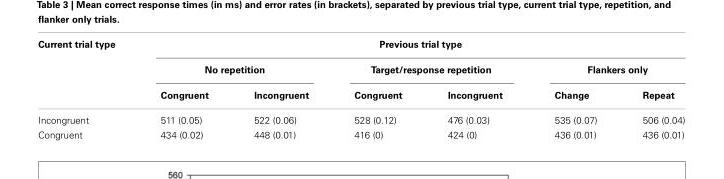table: (37, 37, 684, 139)
table column: (424, 37, 527, 139), (37, 37, 137, 139), (230, 37, 330, 139), (330, 37, 424, 139), (137, 37, 230, 139), (527, 37, 619, 139), (619, 37, 684, 139)
table column header: (37, 37, 684, 106)
table row: (37, 56, 684, 81), (37, 81, 684, 106), (37, 106, 684, 126), (37, 37, 684, 56), (37, 126, 684, 139)
table spanning cell: (137, 37, 684, 56), (37, 37, 137, 106), (330, 56, 527, 81), (137, 56, 330, 81), (527, 56, 684, 81)
